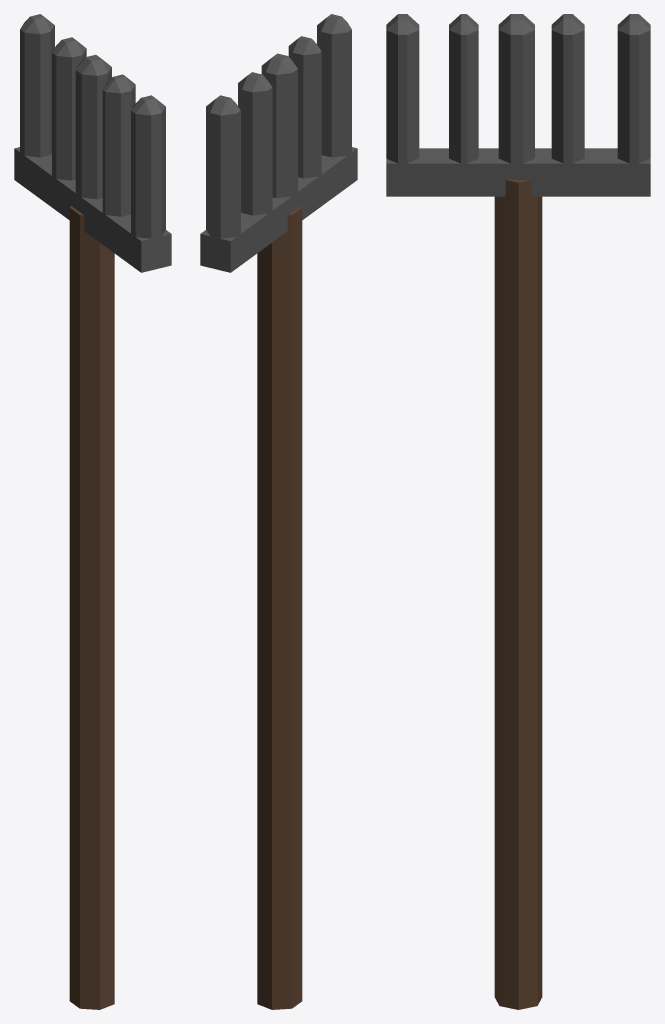
The model's file is SM_PitchFork.fbx.
3 views of the same model, side by side, from view 1: azimuth 30°, elevation 25°; view 2: azimuth 150°, elevation 25°; view 3: azimuth 270°, elevation 25° (orthographic). The views are drawn at different scales.
Visible parts, largest first — view 1: SM_PitchFork; view 2: SM_PitchFork; view 3: SM_PitchFork.
Part boxes in pixels (x1,y1,x2,y2): SM_PitchFork: [14, 14, 171, 1009]; SM_PitchFork: [200, 14, 357, 1009]; SM_PitchFork: [386, 14, 650, 1009].
Bounding box in the file's own units: 4.35 × 102 × 24.87.
